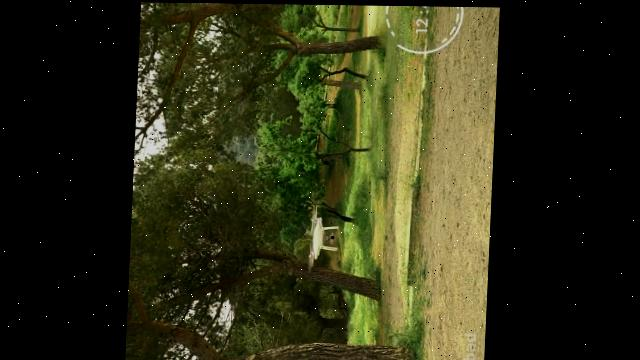drone: (307, 203, 341, 271)
